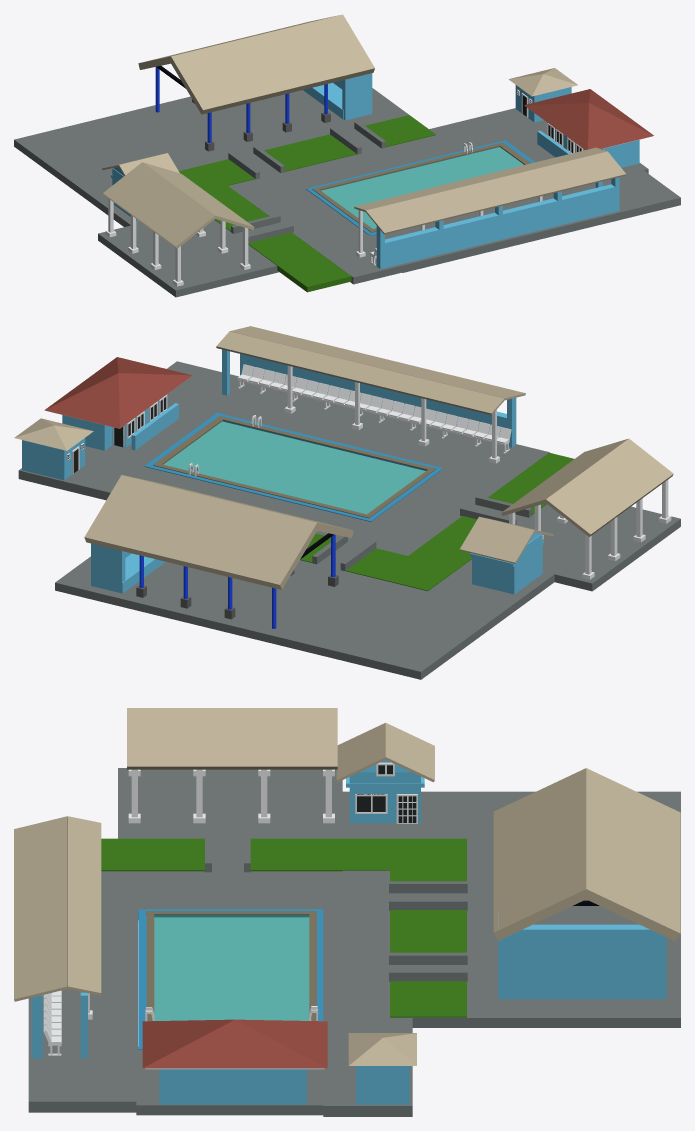
File: AUPPool.glb
The picture shows the model from 3 angles, top to bottom: view 1: azimuth 30°, elevation 25°; view 2: azimuth 150°, elevation 25°; view 3: azimuth 270°, elevation 25°; orthographic projection. The views are drawn at different scales.
Visible parts, largest first — view 1: cube.176; view 2: cube.176; view 3: cube.176.
Part boxes in pixels (left/top/right/bottom): cube.176: left=14, top=14, right=680, bottom=297; cube.176: left=14, top=326, right=680, bottom=679; cube.176: left=14, top=708, right=680, bottom=1116.
Bounding box in the file's own units: 54.86 × 9.09 × 45.11.
24 materials, 22 textured.
